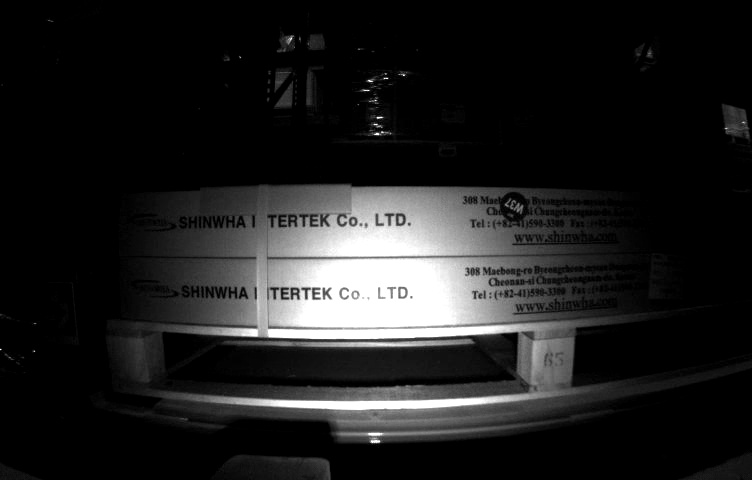True Barcode: (649, 253, 697, 301)
